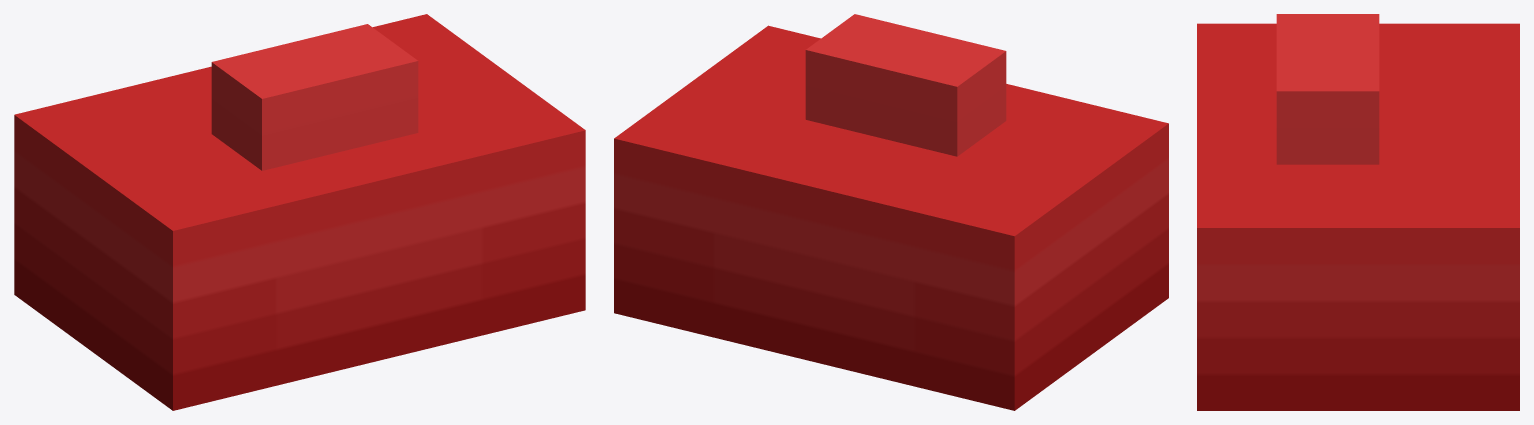
The picture shows the model from 3 angles, left to right: view 1: azimuth 30°, elevation 25°; view 2: azimuth 150°, elevation 25°; view 3: azimuth 270°, elevation 25°; orthographic projection. The views are drawn at different scales.
Visible parts, largest first — view 1: Root028; view 2: Root028; view 3: Root028.
Boxes of the visible parts, x1=… form: Root028: x1=14, y1=14, x2=585, y2=410; Root028: x1=614, y1=14, x2=1168, y2=410; Root028: x1=1197, y1=14, x2=1519, y2=410.
Bounding box in the file's own units: 12 × 7 × 8.
